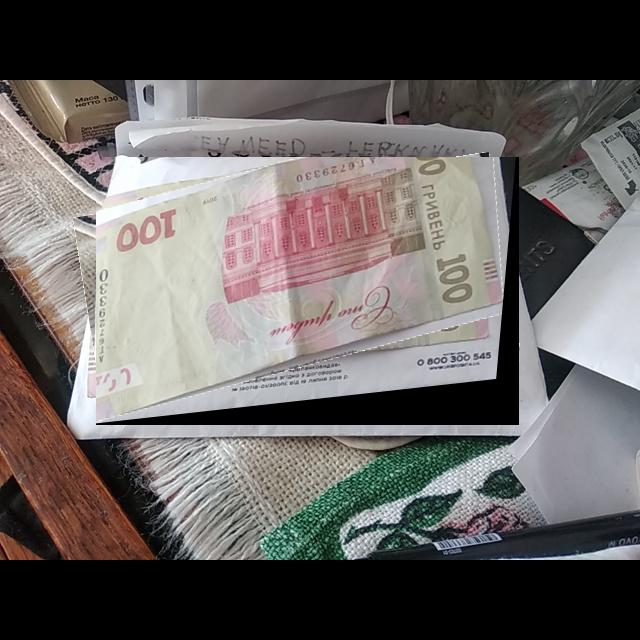100uah: (96, 157, 507, 424)
